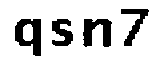7: (119, 6, 152, 51)
n: (81, 15, 113, 51)
q: (11, 15, 45, 59)
s: (51, 16, 74, 49)
